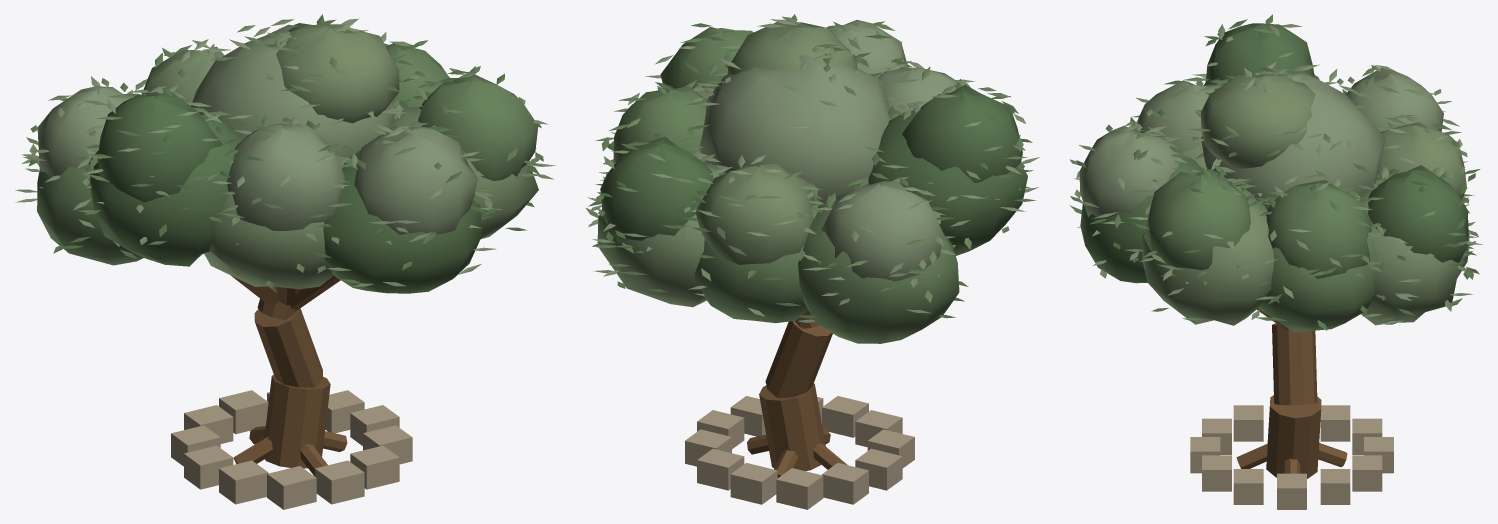
Rendered from olive_tree_detail.glb.
The picture shows the model from 3 angles, left to right: view 1: azimuth 30°, elevation 25°; view 2: azimuth 150°, elevation 25°; view 3: azimuth 270°, elevation 25°; orthographic projection. The views are drawn at different scales.
Parts seen in each view (by area): view 1: olive_tree_detail.002; view 2: olive_tree_detail.002; view 3: olive_tree_detail.002.
Part boxes in pixels (x1=…): olive_tree_detail.002: x1=15, y1=14, x2=555, y2=509; olive_tree_detail.002: x1=585, y1=14, x2=1039, y2=509; olive_tree_detail.002: x1=1069, y1=14, x2=1482, y2=509.
Bounding box in the file's own units: 2.99 × 2.97 × 2.77.
